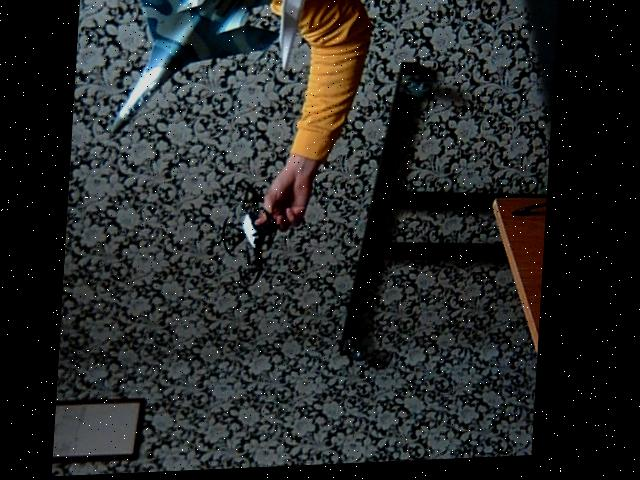drone: (203, 177, 298, 299)
